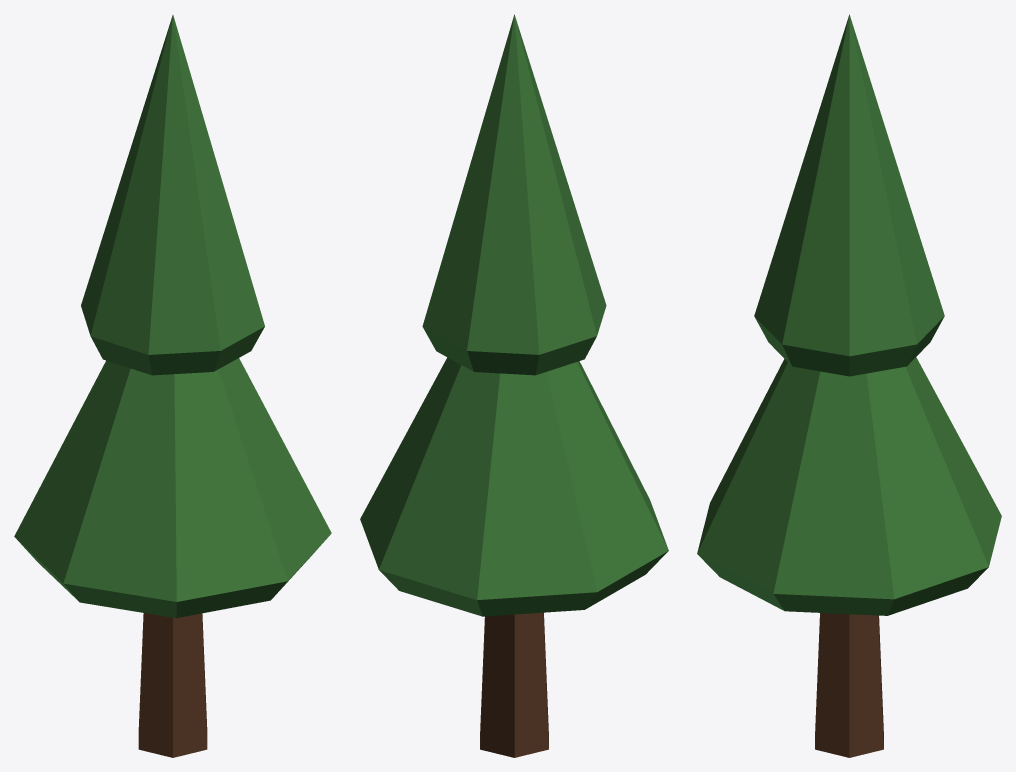
File: tree_pineSmallB.glb
The picture shows the model from 3 angles, left to right: view 1: azimuth 30°, elevation 25°; view 2: azimuth 150°, elevation 25°; view 3: azimuth 270°, elevation 25°; orthographic projection.
Visible parts, largest first — view 1: tree_pineSmallB; view 2: tree_pineSmallB; view 3: tree_pineSmallB.
Part boxes in pixels (box(x1,y1,x2,y2)): tree_pineSmallB: box(14, 15, 331, 757); tree_pineSmallB: box(360, 14, 668, 757); tree_pineSmallB: box(697, 14, 1001, 757).
Bounding box in the file's own units: 0.3837 × 1.01 × 0.3837.
Materials: 1 (1 with a texture image).
